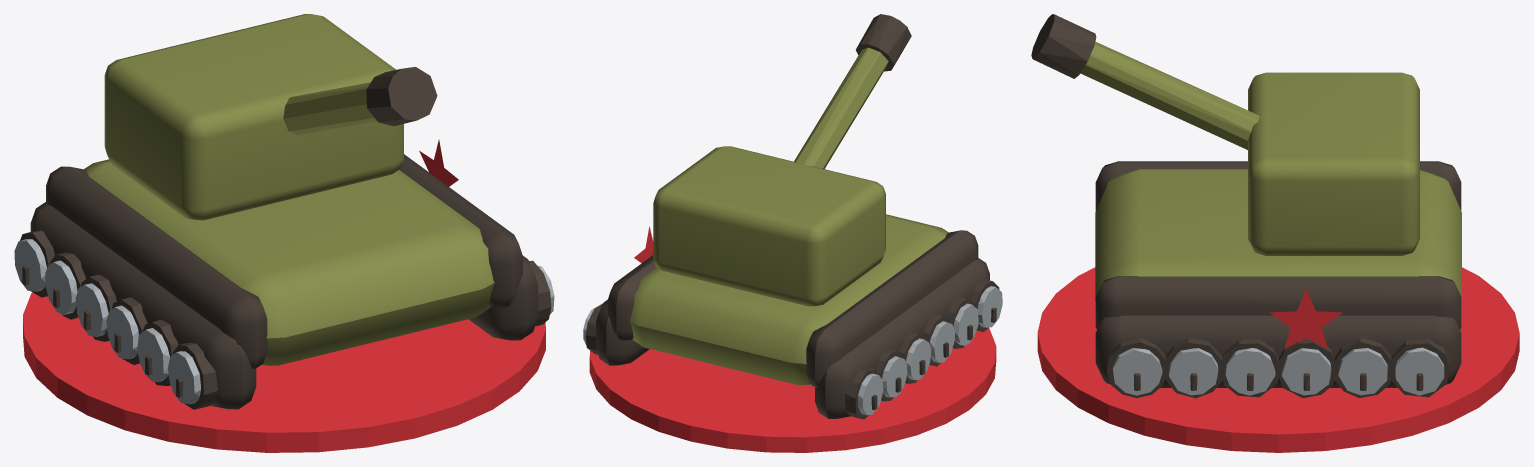
Rendered from soviet_union_artillery_lod0.glb.
3 views of the same model, side by side, from view 1: azimuth 30°, elevation 25°; view 2: azimuth 150°, elevation 25°; view 3: azimuth 270°, elevation 25° (orthographic). The views are drawn at different scales.
Visible parts, largest first — view 1: body_hull, base_pedestal; view 2: body_hull, base_pedestal; view 3: body_hull, base_pedestal.
Boxes of the visible parts, left/top/right/bottom form: body_hull: left=14, top=14, right=554, bottom=409; base_pedestal: left=23, top=292, right=545, bottom=452; body_hull: left=583, top=14, right=1002, bottom=419; base_pedestal: left=589, top=328, right=996, bottom=452; body_hull: left=1031, top=14, right=1461, bottom=398; base_pedestal: left=1037, top=267, right=1519, bottom=452.
Bounding box in the file's own units: 0.7701 × 0.5898 × 0.78.
